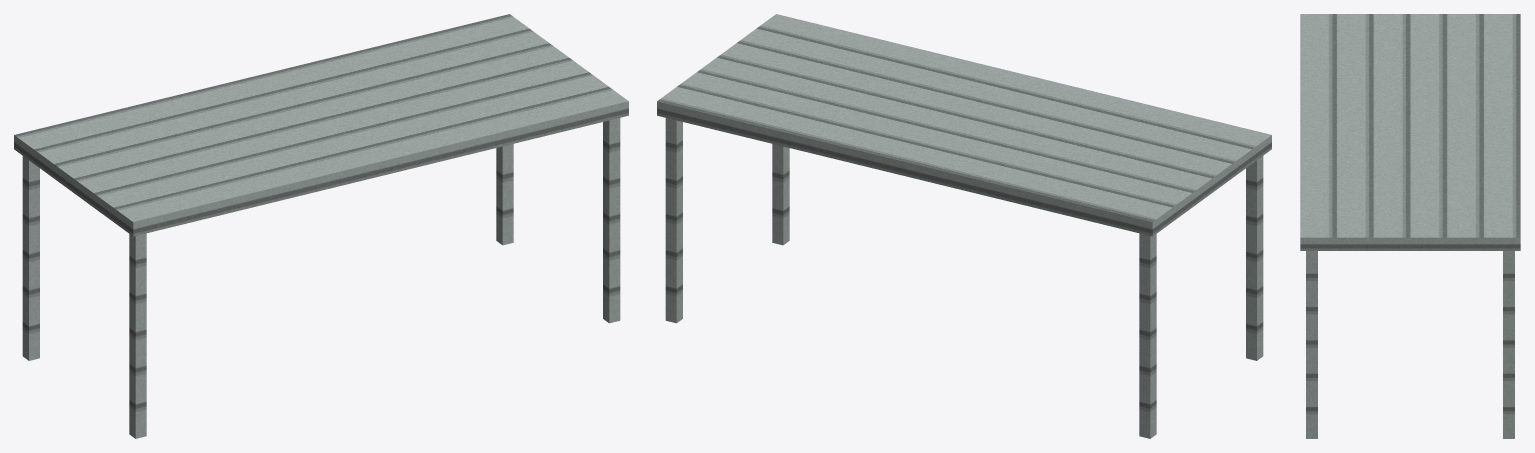
Rendered from long_folding_table.glb.
3 renders of one model, left to right at view 1: azimuth 30°, elevation 25°; view 2: azimuth 150°, elevation 25°; view 3: azimuth 270°, elevation 25°, orthographic. The views are drawn at different scales.
Parts seen in each view (by area): view 1: long_folding_table-col; view 2: long_folding_table-col; view 3: long_folding_table-col.
Boxes of the visible parts, left/top/right/bottom form: long_folding_table-col: left=14, top=14, right=628, bottom=438; long_folding_table-col: left=657, top=14, right=1271, bottom=438; long_folding_table-col: left=1300, top=14, right=1520, bottom=438.
Size of the model in its own units: 1.8 by 0.765 by 0.75.
1 material, 1 textured.
